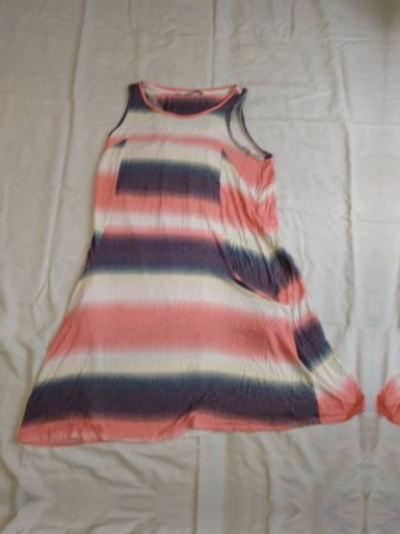Dress: (0, 26, 369, 485), (385, 43, 400, 503), (0, 525, 346, 534)
